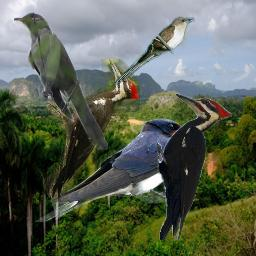Cuckoo: (14, 12, 111, 150), (112, 16, 196, 88)
Swallow: (35, 118, 192, 227)
Woodpecker: (43, 59, 140, 203), (157, 92, 235, 240)
